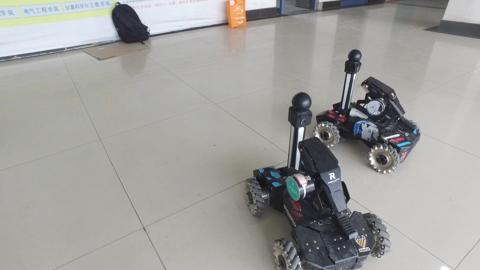bag: (107, 1, 158, 48)
chariot: (232, 86, 393, 270), (312, 48, 423, 177)
